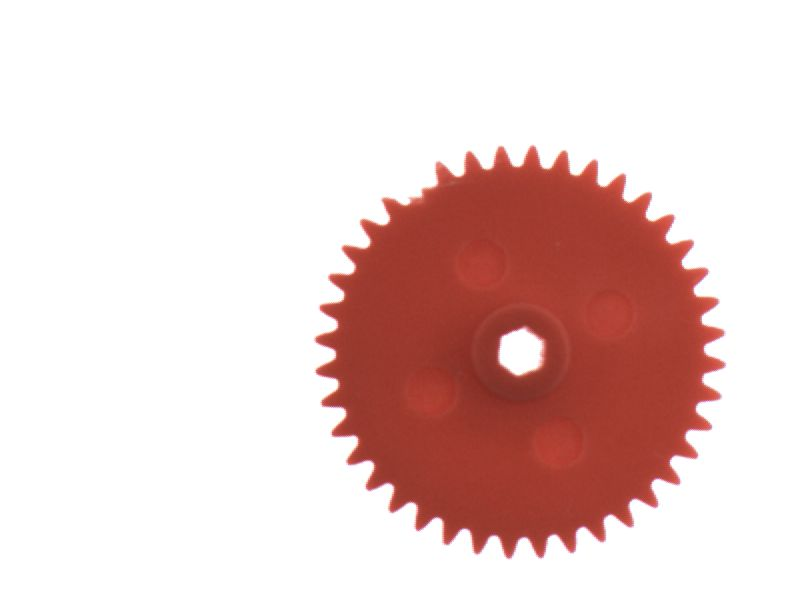defect_lack: (387, 158, 448, 210)
